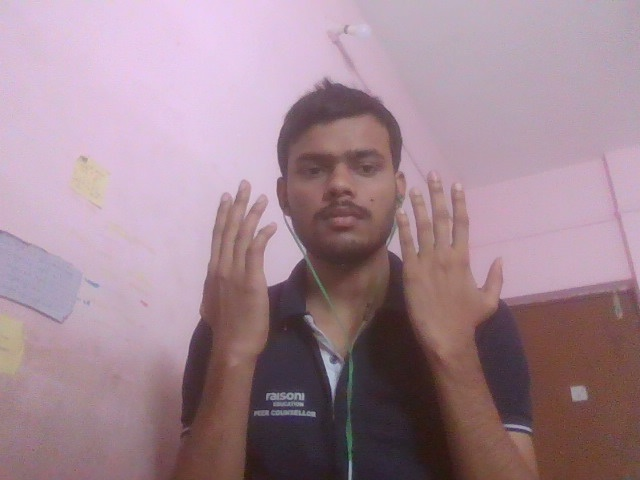allDone: (172, 172, 540, 358)
